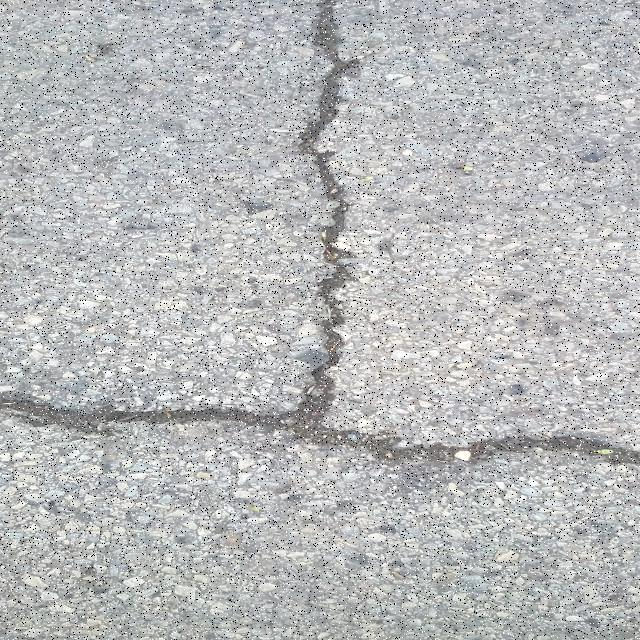Crack: (0, 0, 640, 467)
